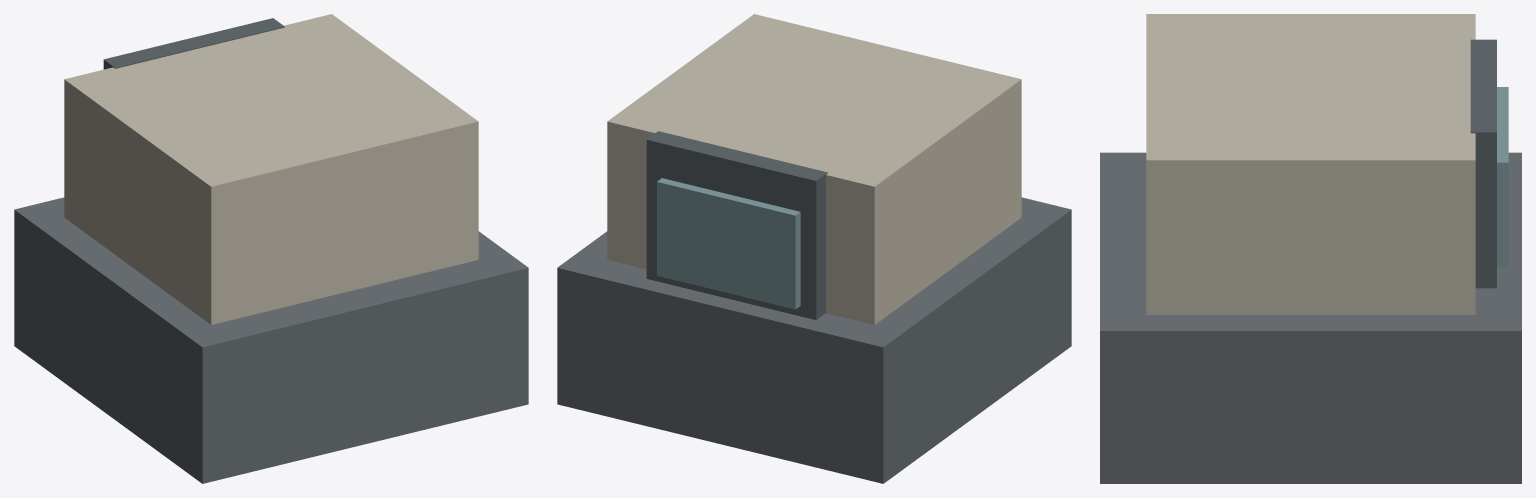
The model's file is iz3_environment_traffic_01.glb.
3 renders of one model, left to right at view 1: azimuth 30°, elevation 25°; view 2: azimuth 150°, elevation 25°; view 3: azimuth 270°, elevation 25°, orthographic. The views are drawn at different scales.
Parts seen in each view (by area): view 1: cabinet, base, panel; view 2: base, cabinet, display, panel; view 3: cabinet, base, panel, display.
Boxes of the visible parts, left/top/right/bottom form: cabinet: left=64, top=14, right=478, bottom=324; base: left=14, top=197, right=528, bottom=483; panel: left=103, top=18, right=284, bottom=69; base: left=557, top=197, right=1071, bottom=483; cabinet: left=607, top=14, right=1021, bottom=324; display: left=657, top=178, right=800, bottom=309; panel: left=646, top=131, right=827, bottom=319; cabinet: left=1146, top=14, right=1475, bottom=314; base: left=1100, top=152, right=1521, bottom=483; panel: left=1470, top=39, right=1496, bottom=288; display: left=1497, top=87, right=1508, bottom=267.
Size of the model in its own units: 0.8 by 0.646 by 0.8.
